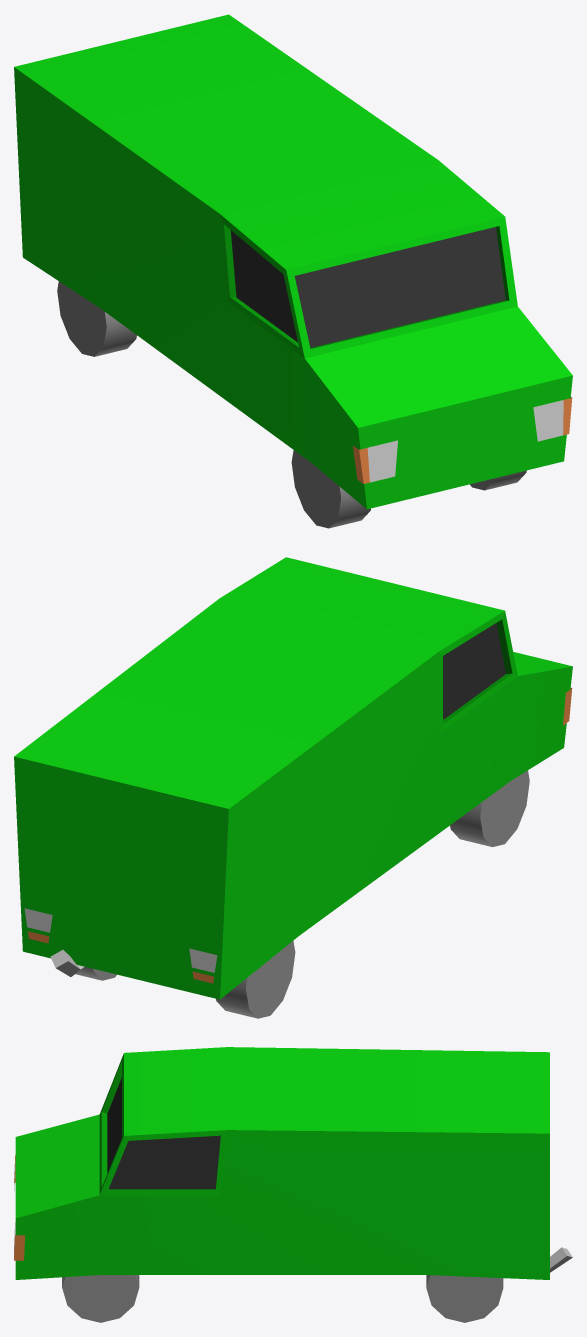
The model's file is van_02.fbx.
The picture shows the model from 3 angles, top to bottom: view 1: azimuth 30°, elevation 25°; view 2: azimuth 150°, elevation 25°; view 3: azimuth 270°, elevation 25°; orthographic projection. The views are drawn at different scales.
Visible parts, largest first — view 1: van_02; view 2: van_02; view 3: van_02.
Part boxes in pixels (x1=…): van_02: x1=14, y1=14, x2=572, y2=528; van_02: x1=14, y1=557, x2=572, y2=1018; van_02: x1=14, y1=1047, x2=572, y2=1322.
Size of the model in its own units: 1.61 by 1.8 by 4.59.
